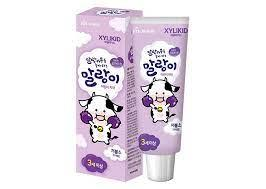toothpaste: (129, 14, 195, 181)
